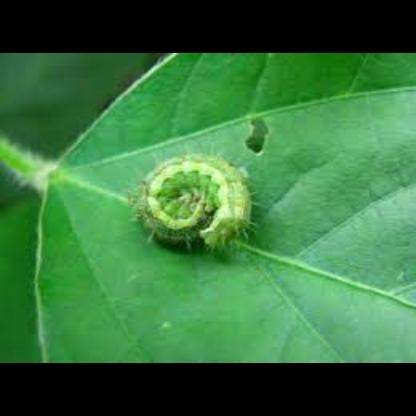agujero: (242, 118, 274, 158)
oruga: (130, 150, 254, 256)
